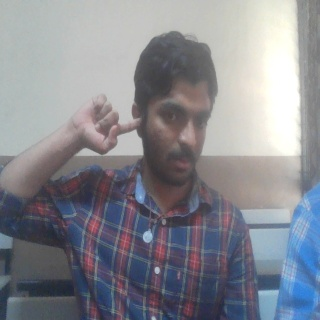Deaf: (67, 90, 143, 156)
Face: (130, 28, 219, 191)
